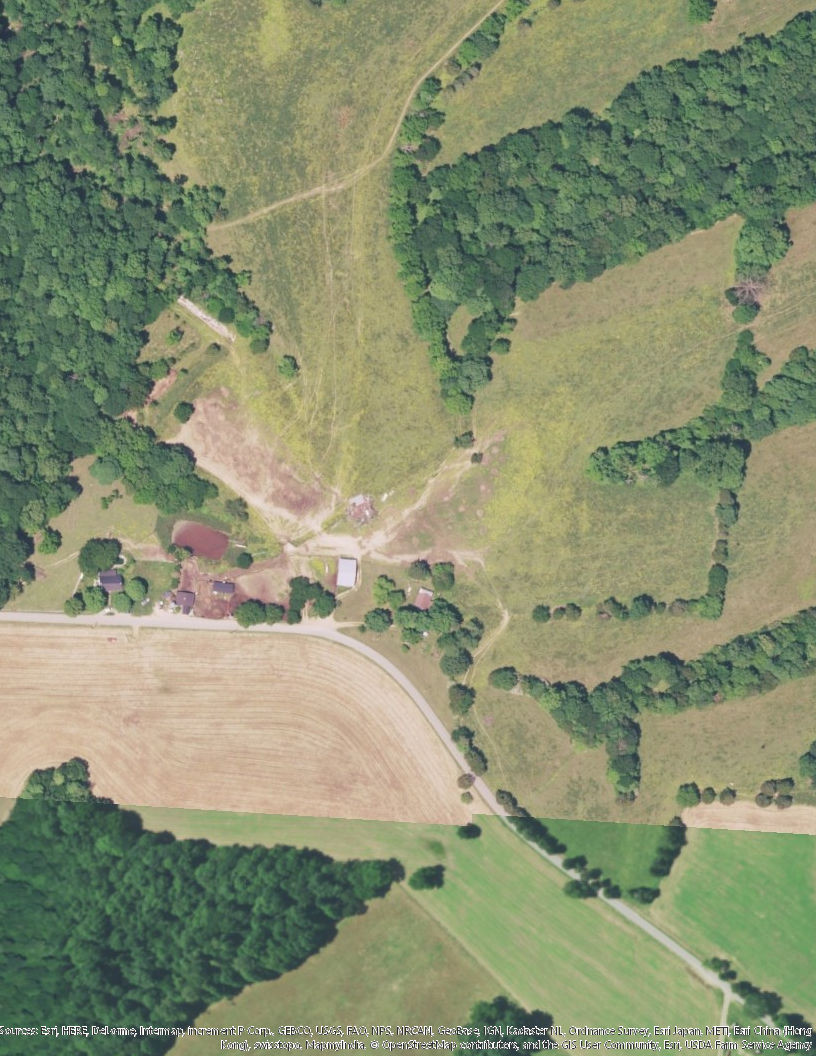cafo: (332, 553, 361, 589)
